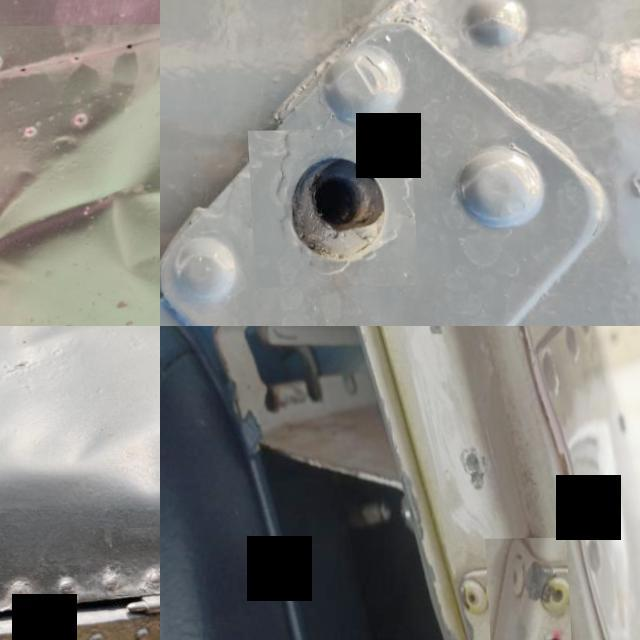Crack: (480, 539, 571, 640), (450, 419, 494, 504), (415, 326, 447, 356)
Dent: (0, 24, 160, 326), (0, 326, 160, 532)
Missing_Fastener: (244, 130, 413, 288)
